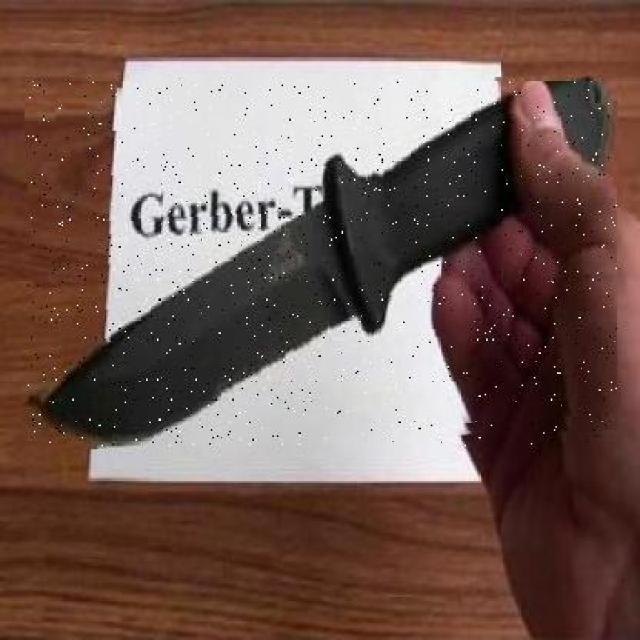knife: (28, 80, 617, 446)
